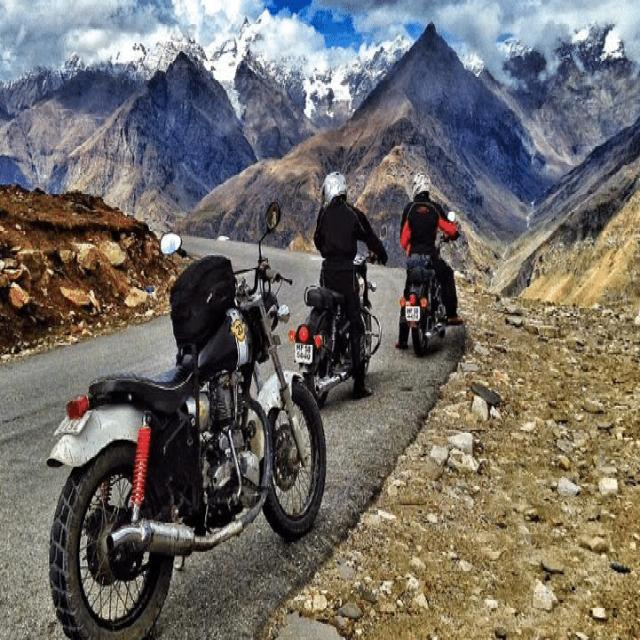motorcycle: (48, 255, 325, 638), (294, 172, 388, 407), (398, 172, 462, 355)
